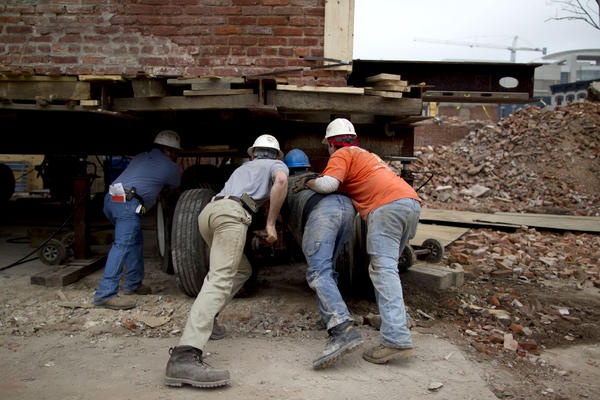blue: (284, 148, 310, 177)
white: (325, 118, 356, 153), (152, 130, 181, 158), (251, 133, 281, 159)
